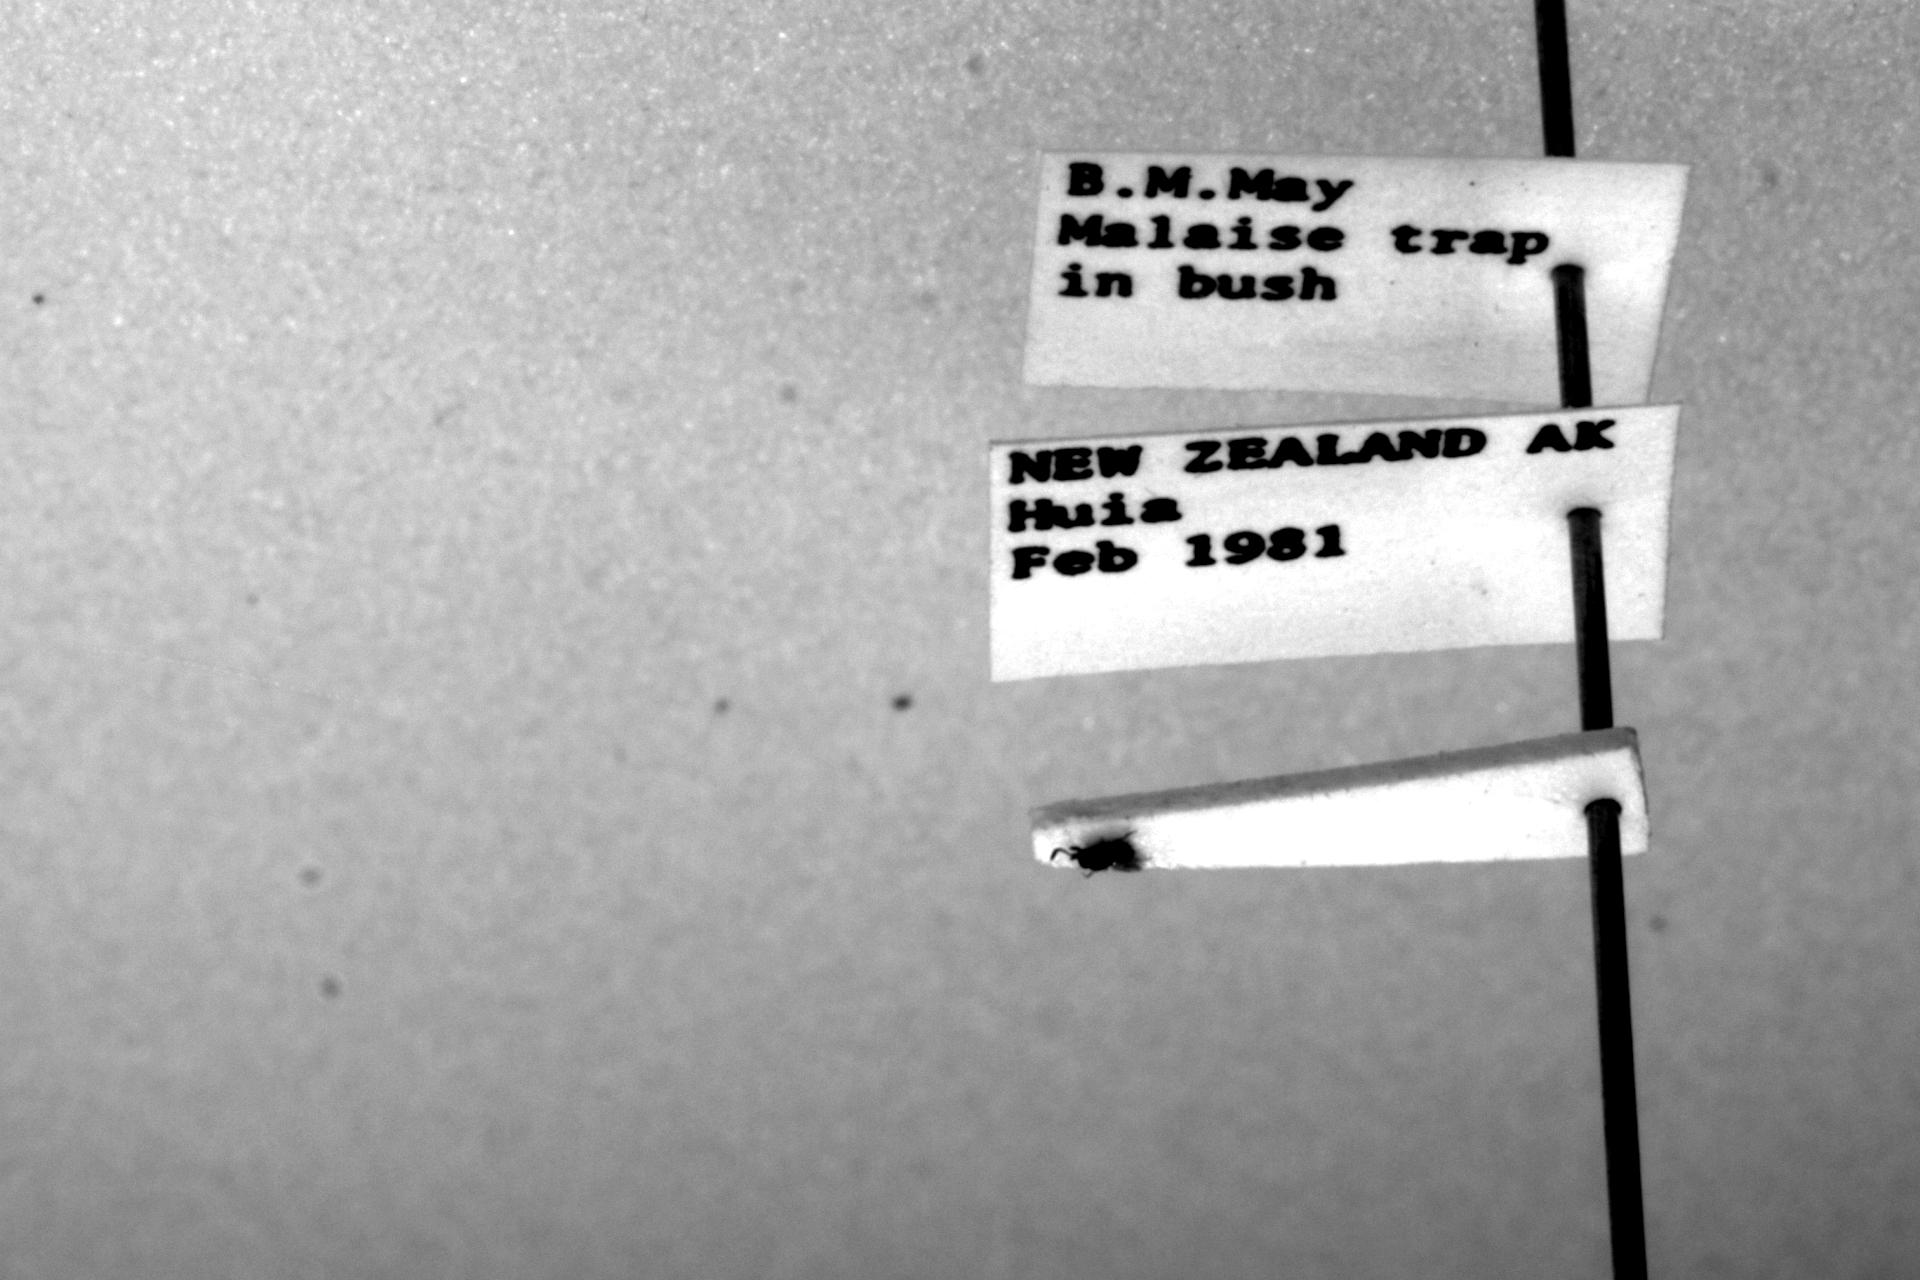typed_label: (990, 406, 1680, 679), (1024, 150, 1687, 406)
